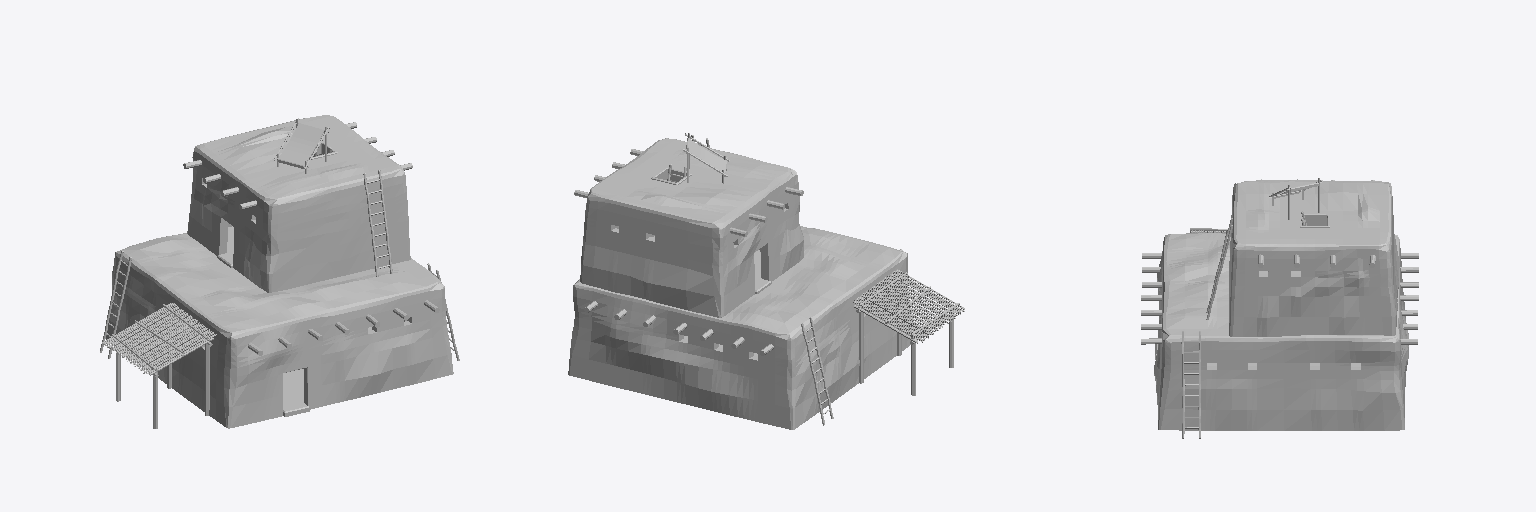
File: lowpoly_turkish_house_001.obj
3 views of the same model, side by side, from view 1: azimuth 30°, elevation 25°; view 2: azimuth 150°, elevation 25°; view 3: azimuth 270°, elevation 25° (orthographic).
Visible parts, largest first — view 1: Cube.096, Cube.091, Cylinder.256, Plane.003, Cube.184, Cube.004, Cube.141; view 2: Cube.096, Cube.091, Cylinder.256, Cube.141; view 3: Cube.096, Cube.091, Cube.140.
Part boxes in pixels (left/top/right/bottom): Cube.096: left=106, top=226, right=453, bottom=428; Cube.091: left=187, top=115, right=410, bottom=292; Cylinder.256: left=102, top=303, right=216, bottom=428; Plane.003: left=278, top=123, right=324, bottom=168; Cube.184: left=363, top=170, right=392, bottom=276; Cube.004: left=283, top=327, right=371, bottom=405; Cube.141: left=100, top=251, right=131, bottom=358; Cube.096: left=568, top=226, right=913, bottom=429; Cube.091: left=580, top=138, right=803, bottom=317; Cylinder.256: left=853, top=269, right=964, bottom=395; Cube.141: left=801, top=317, right=833, bottom=425; Cube.096: left=1154, top=233, right=1408, bottom=430; Cube.091: left=1229, top=180, right=1399, bottom=336; Cube.140: left=1181, top=331, right=1200, bottom=438.
Size of the model in its own units: 7.85 by 5.21 by 6.08.